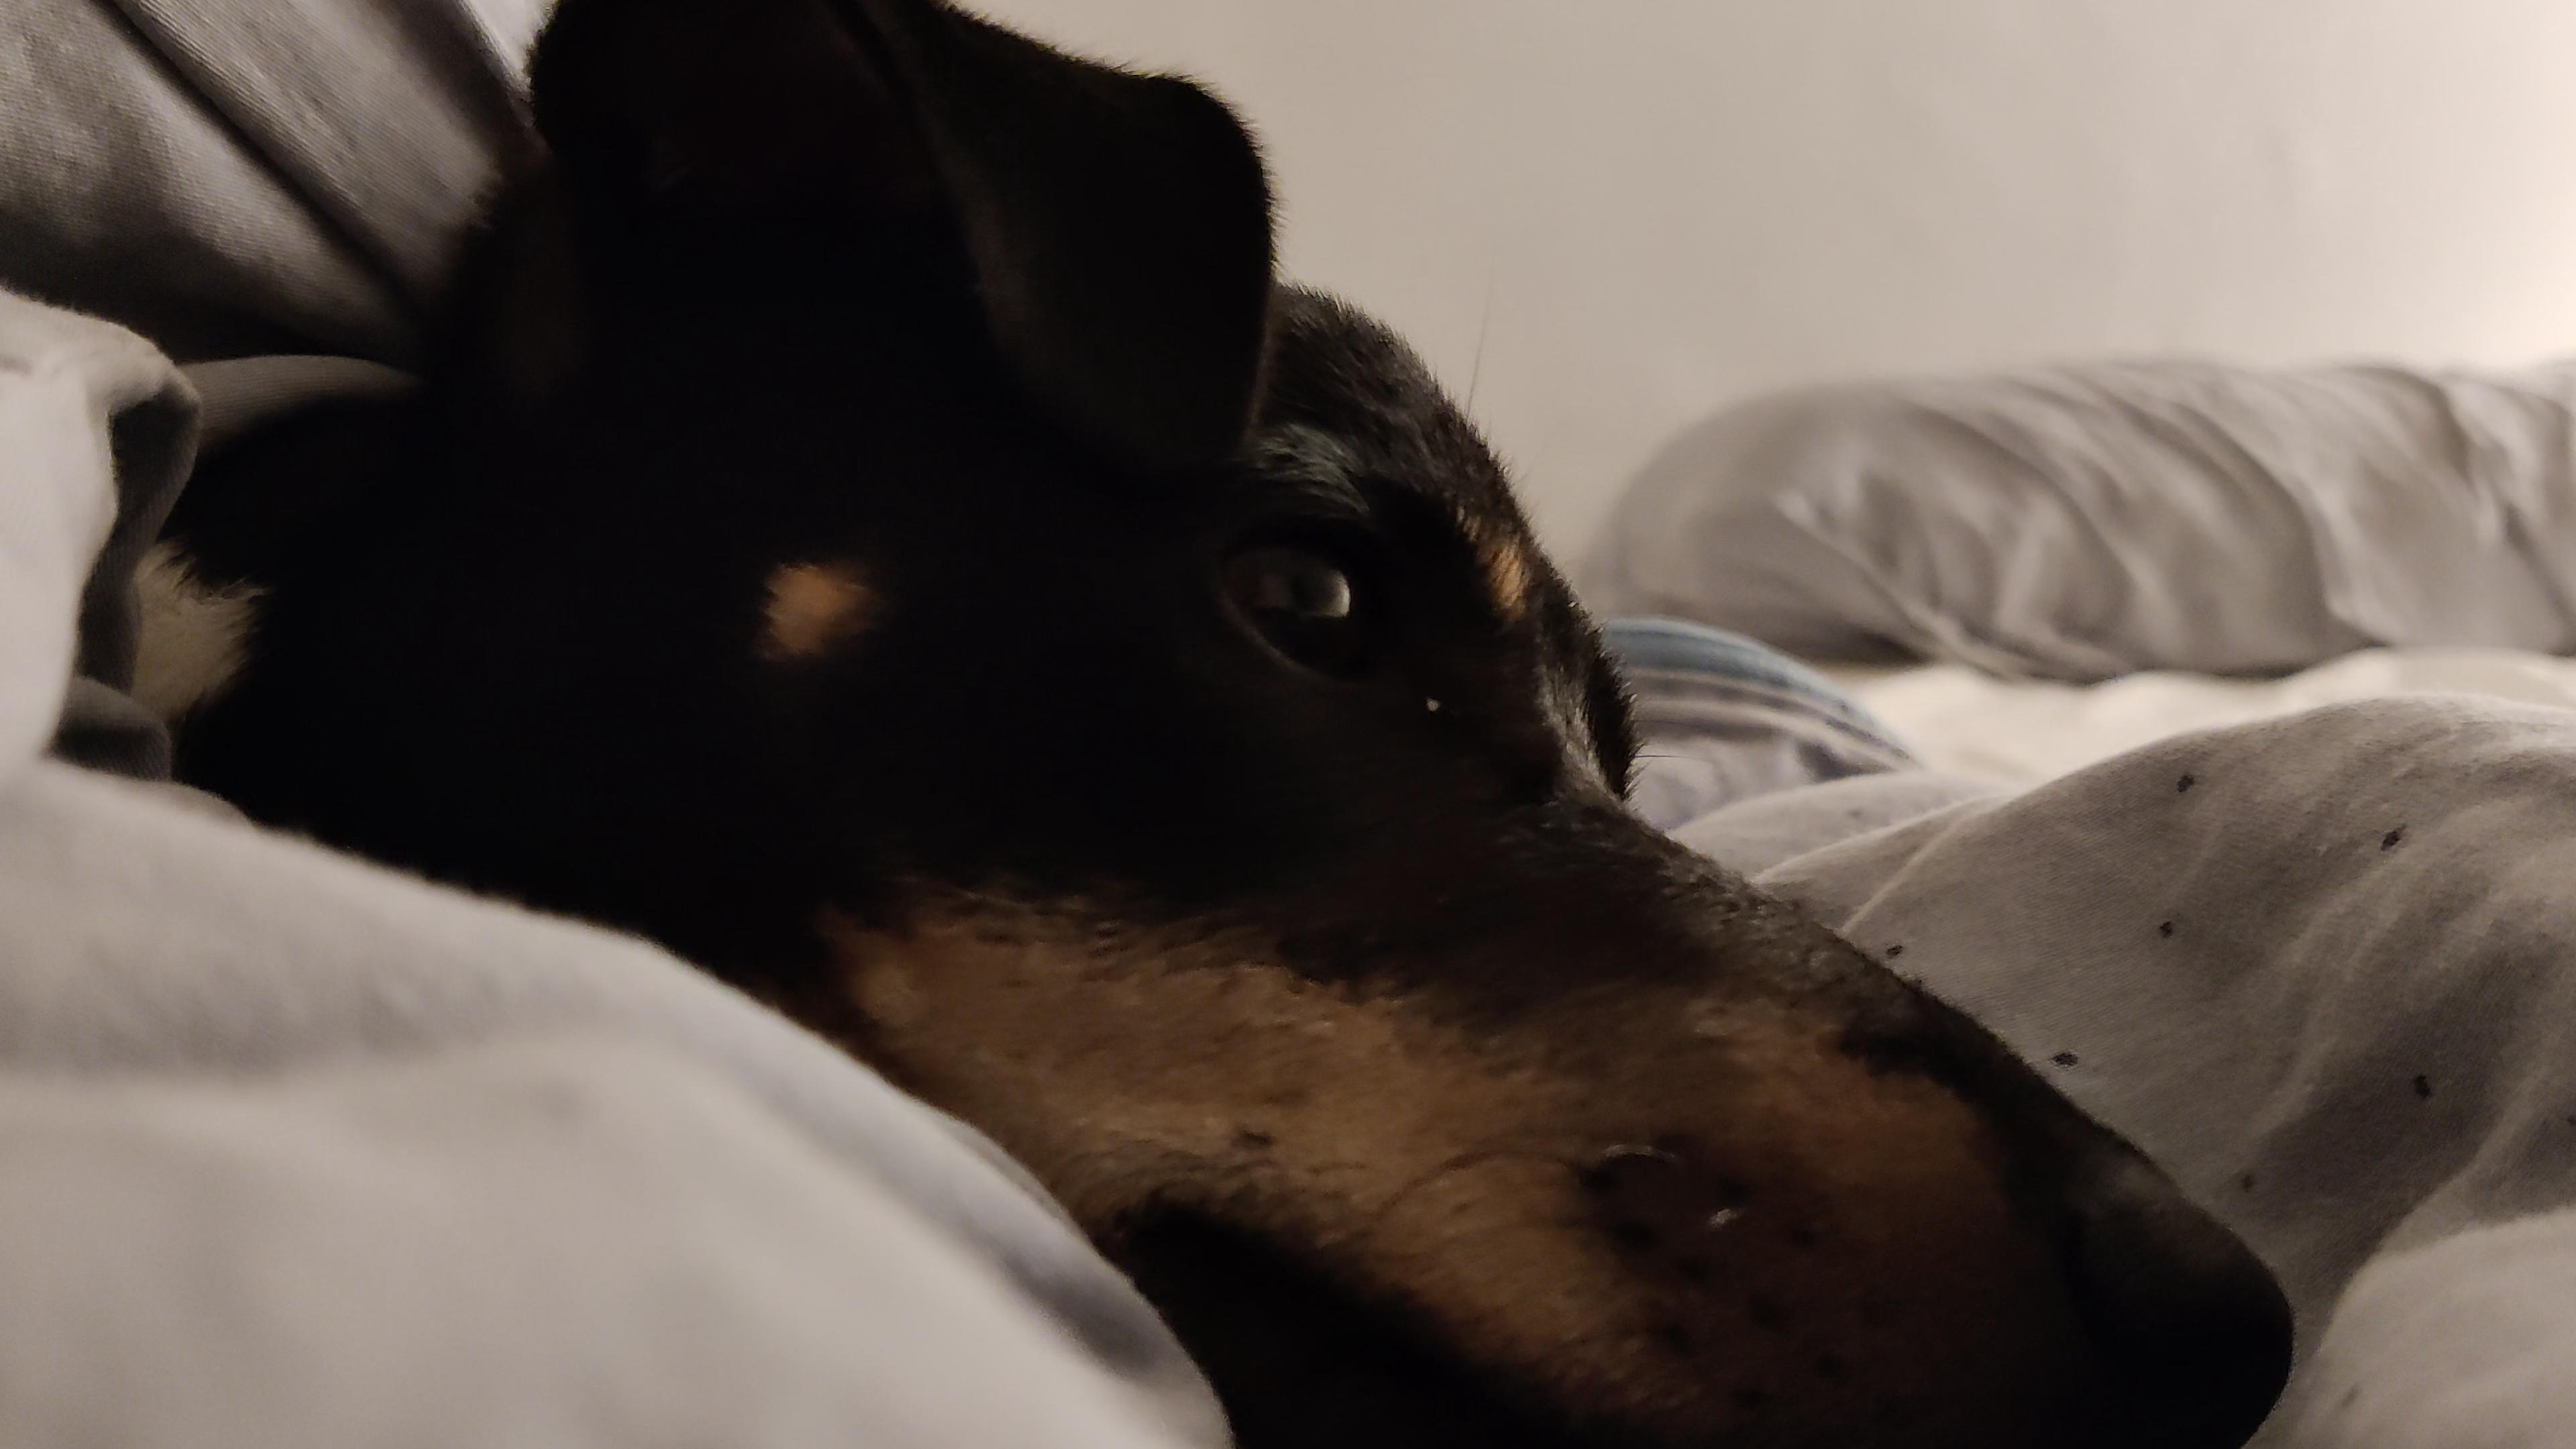Dog: (133, 0, 2334, 1449)
